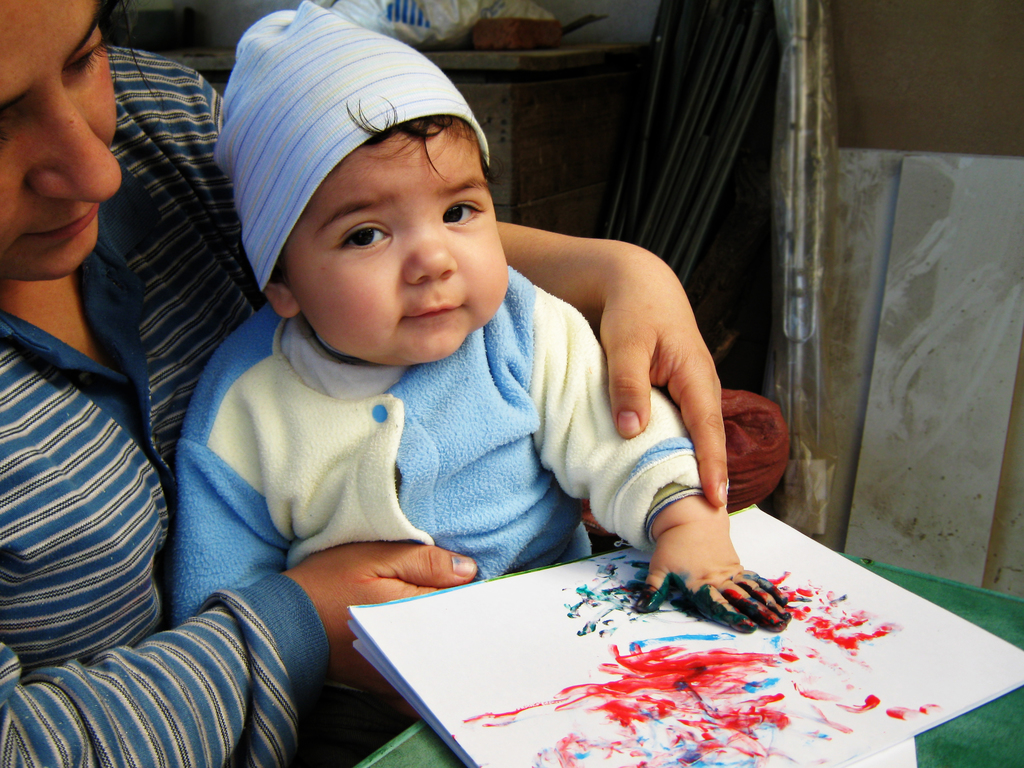Human_hand: (555, 231, 751, 520), (286, 536, 477, 696), (635, 520, 794, 633)
